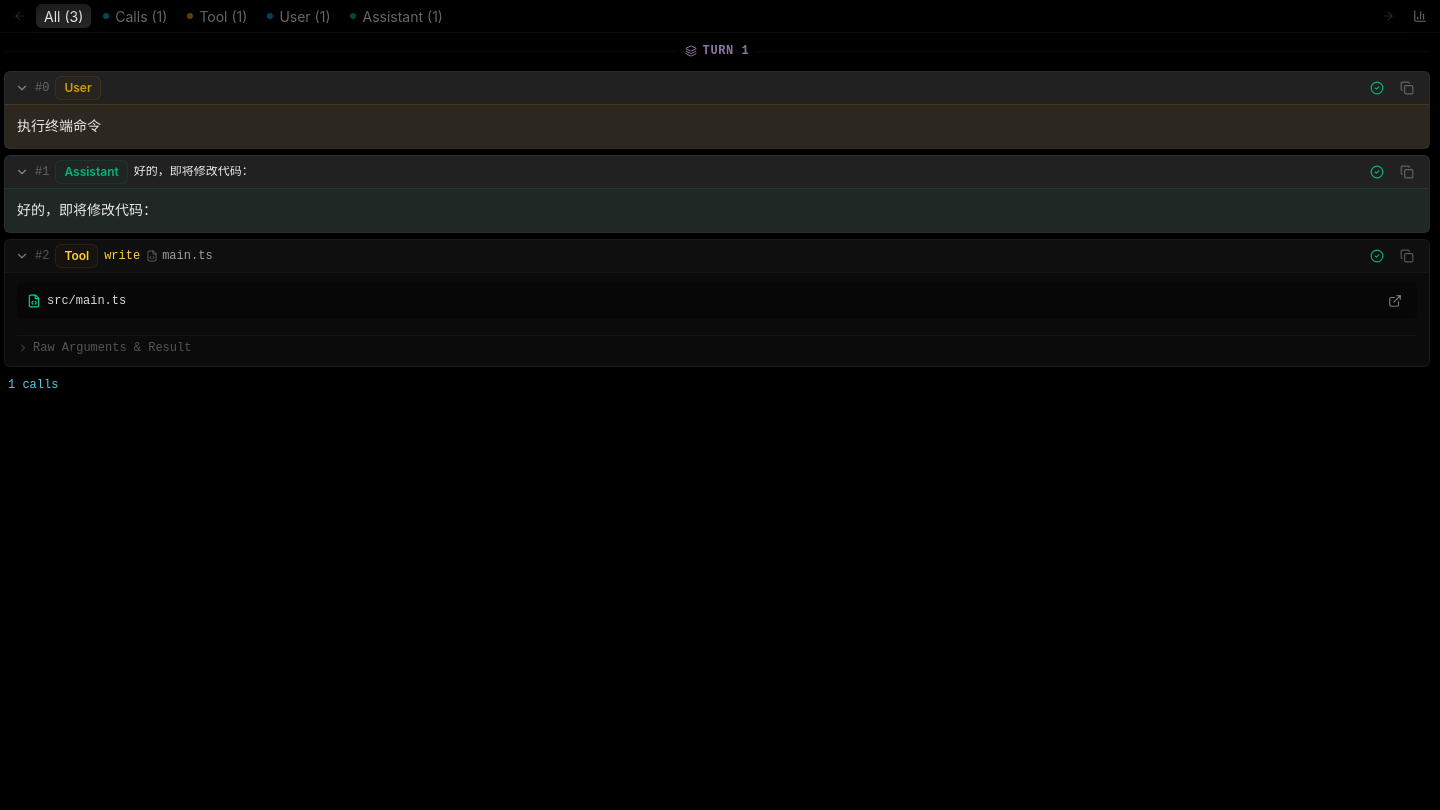
AgentExecutionFlowList › 当 turn 结束时，默认展开该轮的最后一个步骤（无论其为 assistant 还是 tool 等类型）
This screenshot has width=1440, height=810.
Expected: the text "执行终端命令" is shown, [17, 117, 101, 134]
Expected: the text "main.ts" is shown, [162, 250, 213, 262]
Click the button "Raw Arguments & Result" at [104, 348], box [17, 340, 191, 356]
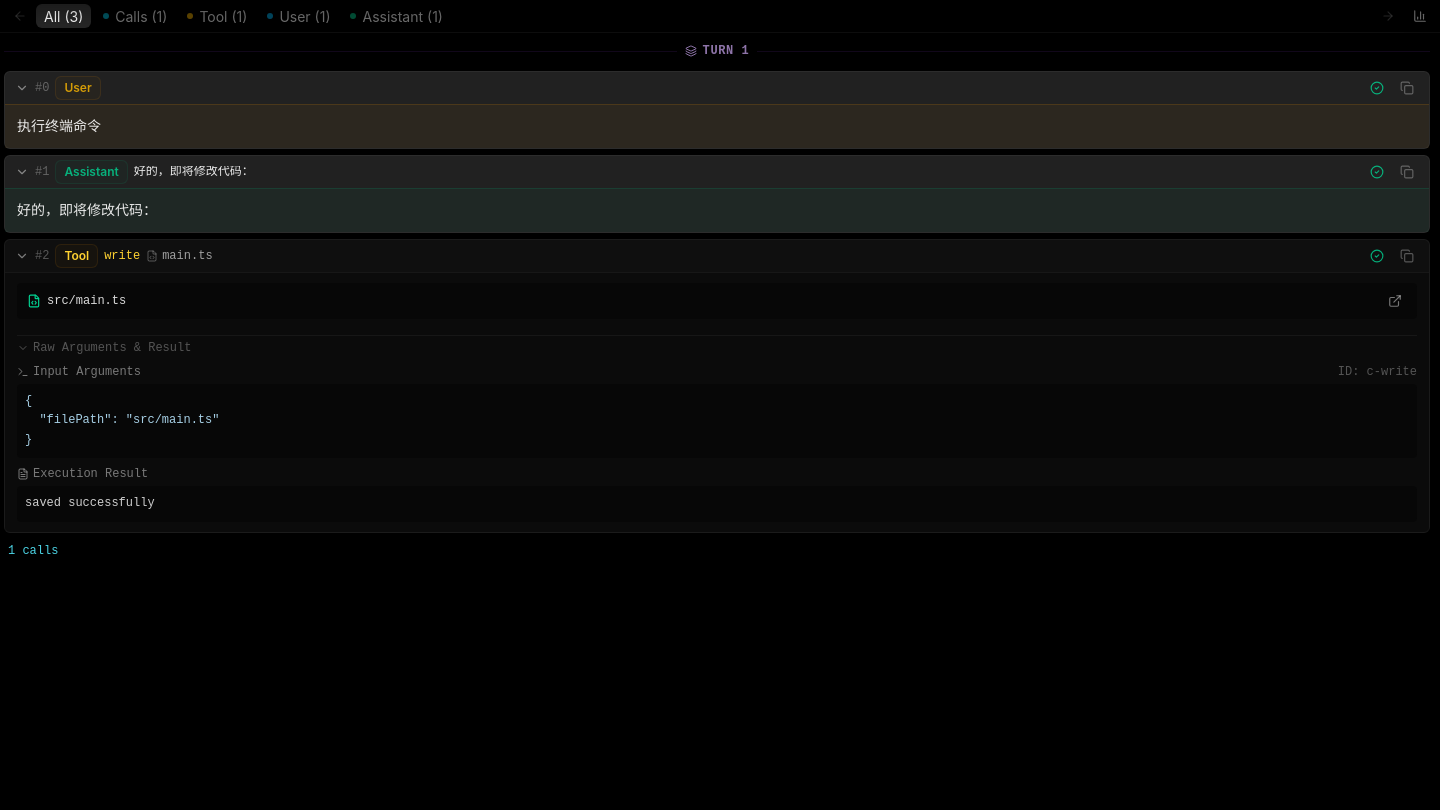
Result: the text "Execution Result" is shown at [17, 466, 148, 482]
Result: the text "saved successfully" is shown at [25, 494, 155, 514]
